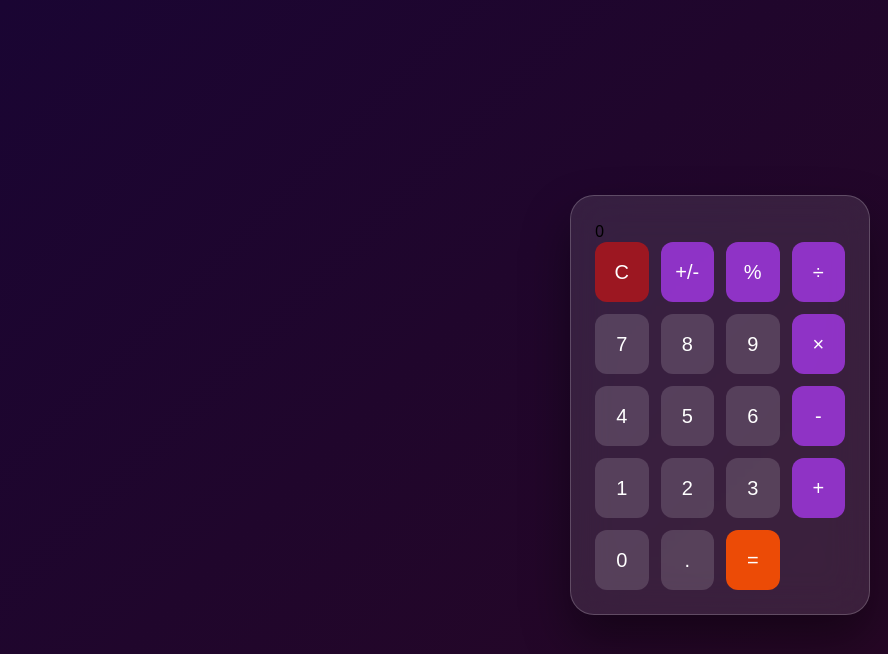
Test: Calculator › concatena dígitos
Click the button "4" at (622, 416), box [595,386,648,446]
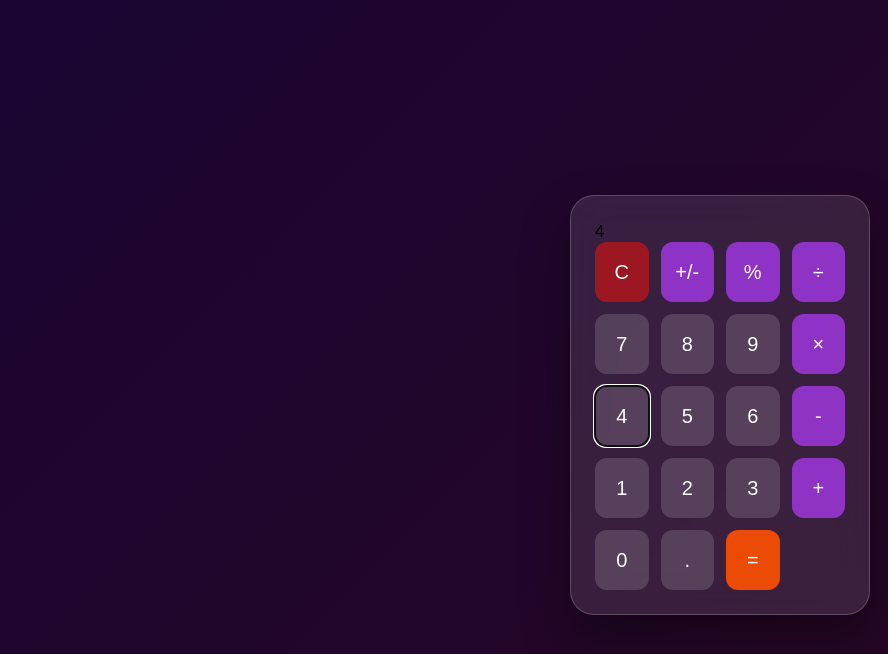
Click the button "2" at (687, 488), box [660,458,714,518]
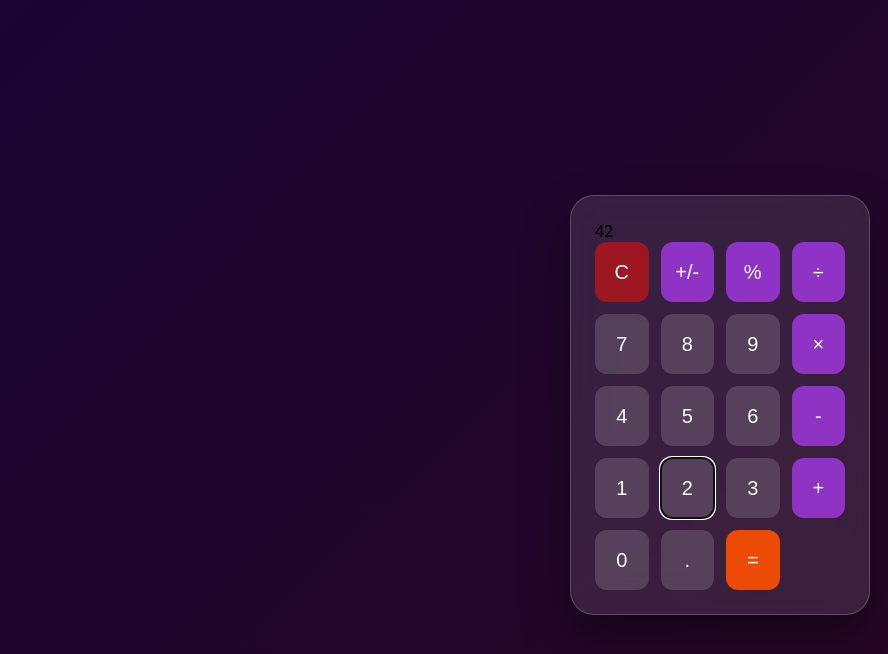
Now the message reads "42", box [595,220,613,242]
